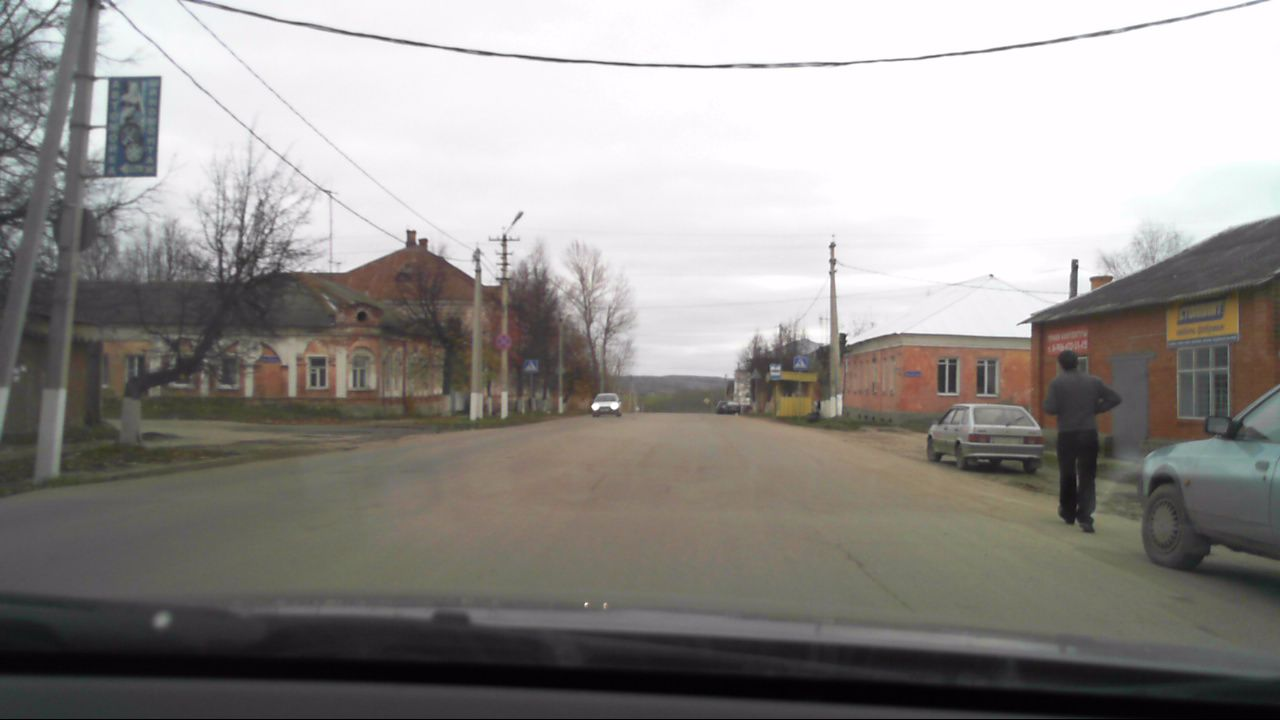No Parking: (494, 334, 511, 351)
